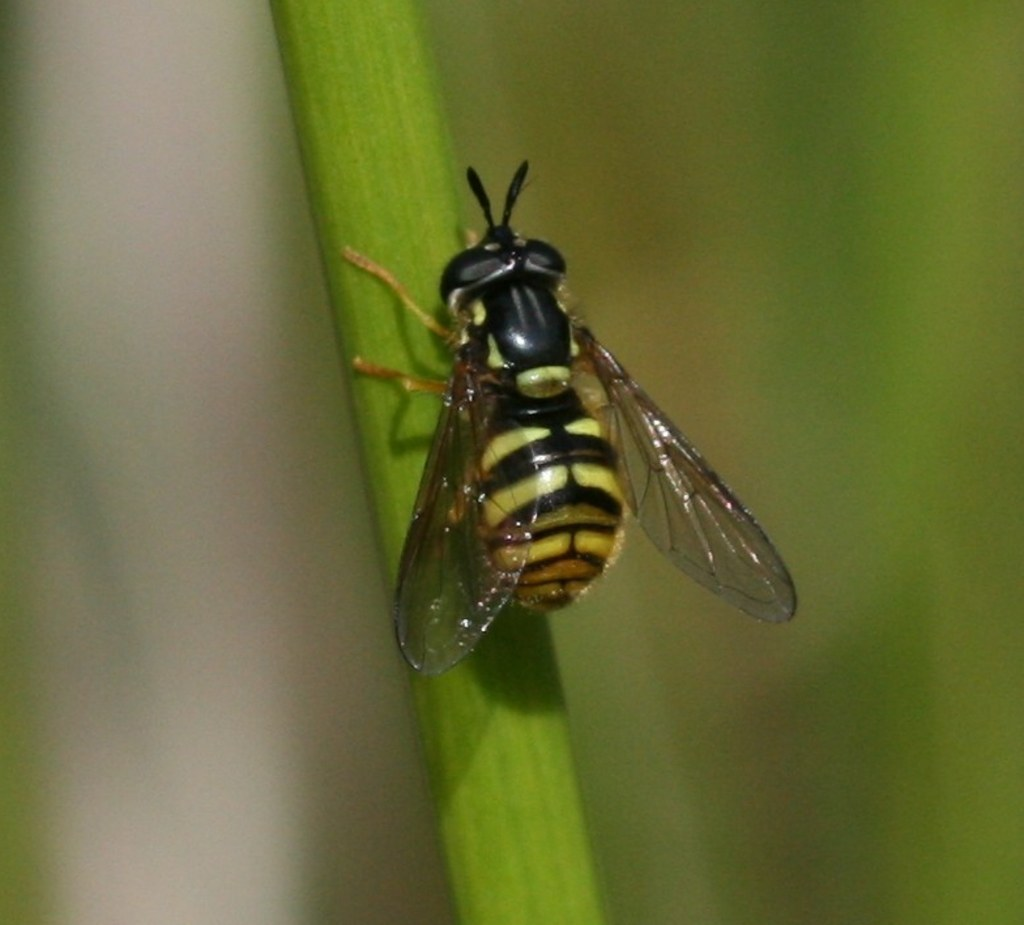bee: (325, 158, 802, 669)
